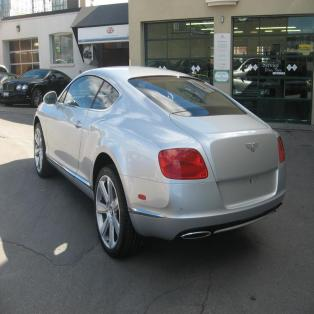Auto: (33, 64, 290, 257)
